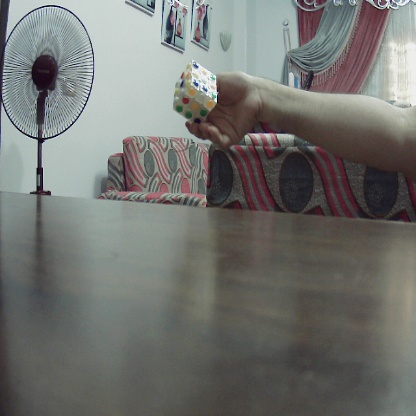Rubix Cube: (173, 60, 217, 125)
